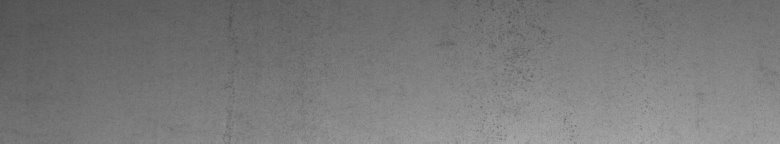ib: (437, 5, 577, 132)
